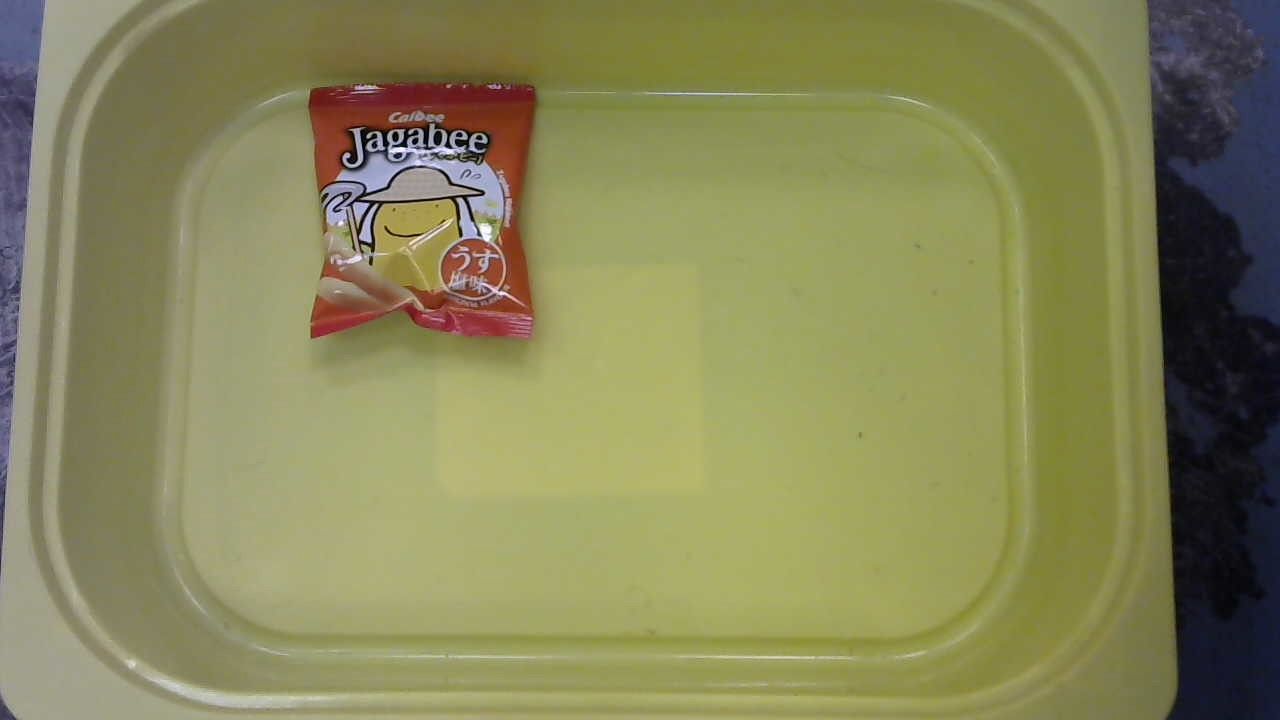JagabeeFarmer: (286, 77, 551, 349)
